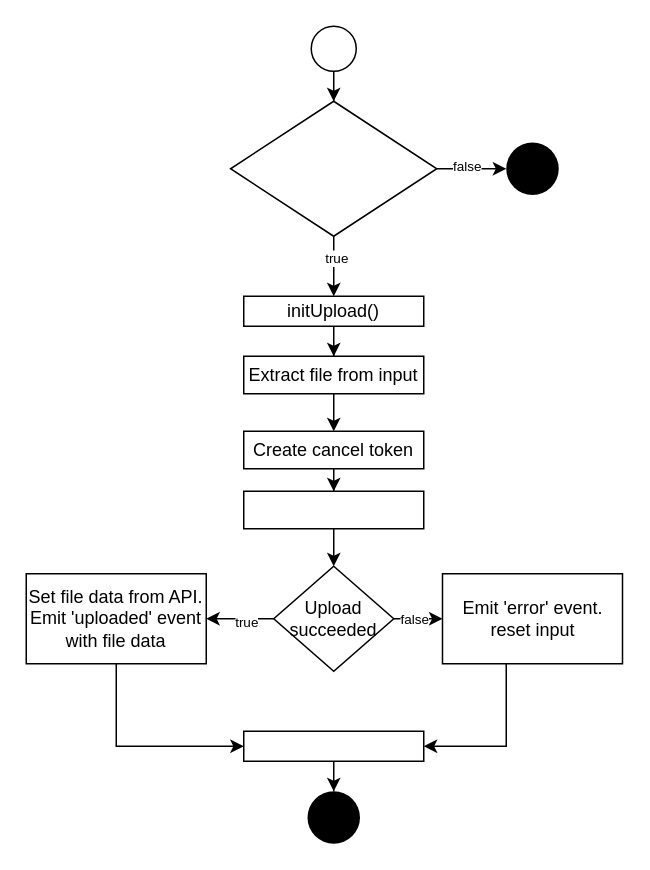
Some shapes in this 650 by 870 pixel diagram are drawn without their labels. Here are the shapes that lost their labels. From the top down, the centre of each, then its label:
At (x=333, y=168): "Is new file selected (input changed)".
At (x=333, y=509): "Form upload request data & send request".
At (x=333, y=745): "Reset upload input".
